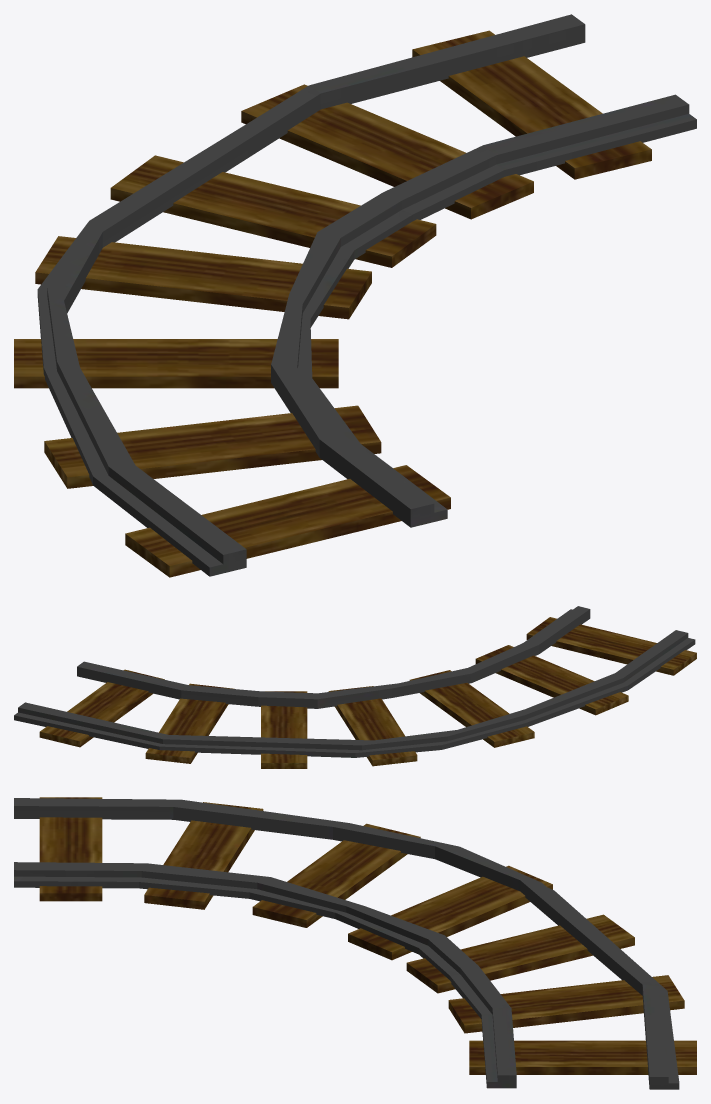
The model's file is MinecartTrackTurn.glb.
3 views of the same model, one above another, from view 1: azimuth 30°, elevation 25°; view 2: azimuth 150°, elevation 25°; view 3: azimuth 270°, elevation 25° (orthographic). The views are drawn at different scales.
Visible parts, largest first — view 1: MinecartTrackTurn_joined.002; view 2: MinecartTrackTurn_joined.002; view 3: MinecartTrackTurn_joined.002.
Part boxes in pixels (bbox=[...]): MinecartTrackTurn_joined.002: bbox=[14, 14, 696, 577]; MinecartTrackTurn_joined.002: bbox=[14, 606, 696, 768]; MinecartTrackTurn_joined.002: bbox=[14, 797, 696, 1089].
Size of the model in its own units: 1.81 by 0.0561 by 1.8.
1 material, 1 textured.
